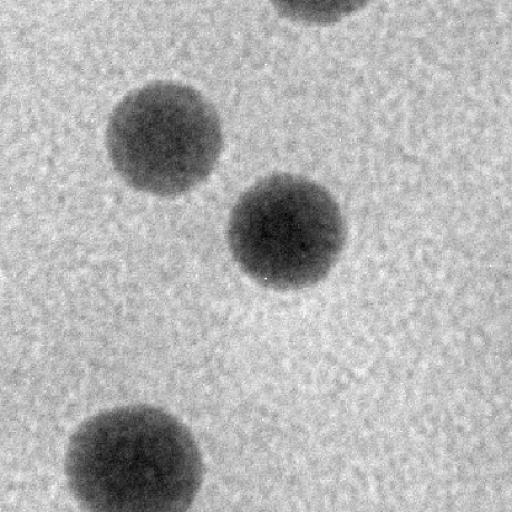Nanoparticles: (220, 170, 352, 295), (65, 397, 207, 512), (105, 75, 227, 200), (264, 0, 372, 26)
